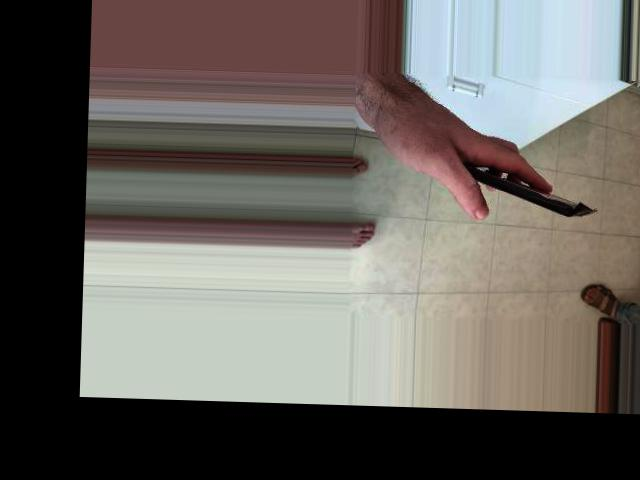chocolate: (437, 149, 601, 230)
